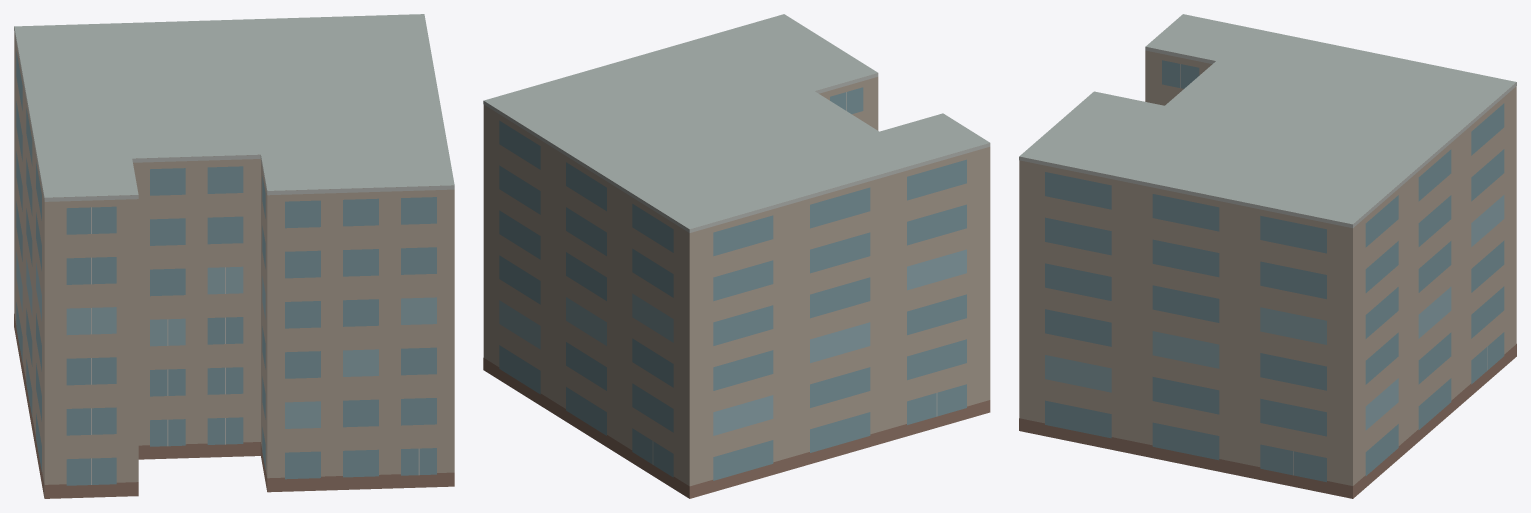
The model's file is survey-upis-32585985.glb.
The picture shows the model from 3 angles, left to right: view 1: azimuth 30°, elevation 25°; view 2: azimuth 150°, elevation 25°; view 3: azimuth 270°, elevation 25°; orthographic projection. The views are drawn at different scales.
Parts seen in each view (by area): view 1: survey-upis-32585985.tmp; view 2: survey-upis-32585985.tmp; view 3: survey-upis-32585985.tmp.
Boxes of the visible parts, x1=… form: survey-upis-32585985.tmp: x1=14, y1=14, x2=454, y2=498; survey-upis-32585985.tmp: x1=483, y1=14, x2=990, y2=498; survey-upis-32585985.tmp: x1=1019, y1=14, x2=1516, y2=498.
Bounding box in the file's own units: 28.62 × 17.4 × 28.6.
